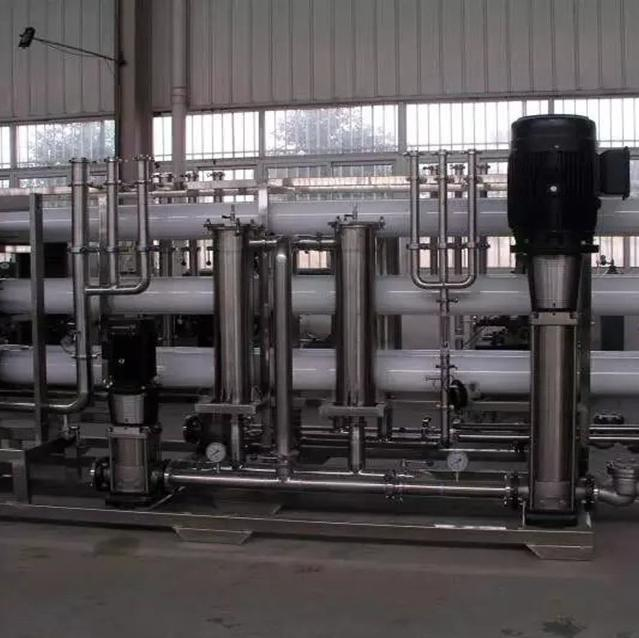oil: (81, 520, 191, 561)
